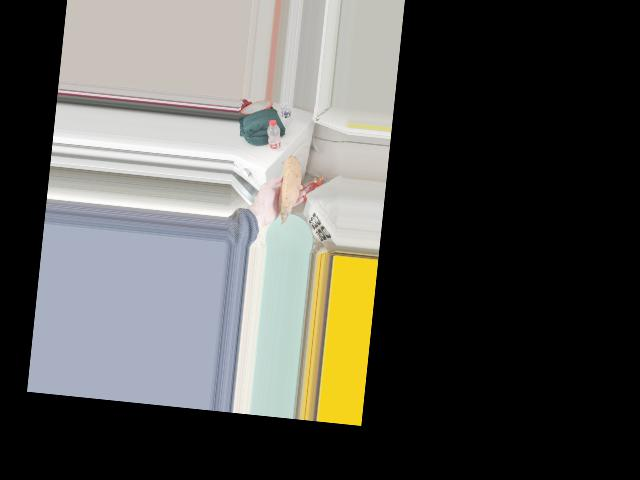sweet_potato: (274, 148, 303, 211)
